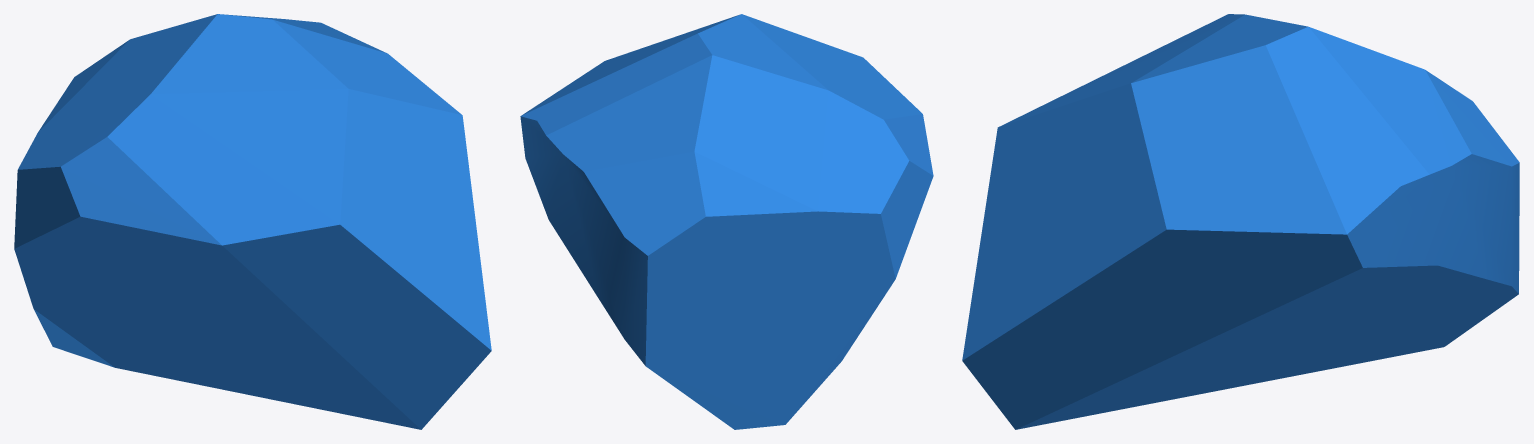
The model's file is Fragment.fbx.
The picture shows the model from 3 angles, left to right: view 1: azimuth 30°, elevation 25°; view 2: azimuth 150°, elevation 25°; view 3: azimuth 270°, elevation 25°; orthographic projection. The views are drawn at different scales.
Parts seen in each view (by area): view 1: Fragment; view 2: Fragment; view 3: Fragment.
Part boxes in pixels (x1,y1,x2,y2): Fragment: (14, 14, 491, 429); Fragment: (520, 14, 933, 429); Fragment: (962, 14, 1519, 429).
Size of the model in its own units: 141 by 160 by 116.
